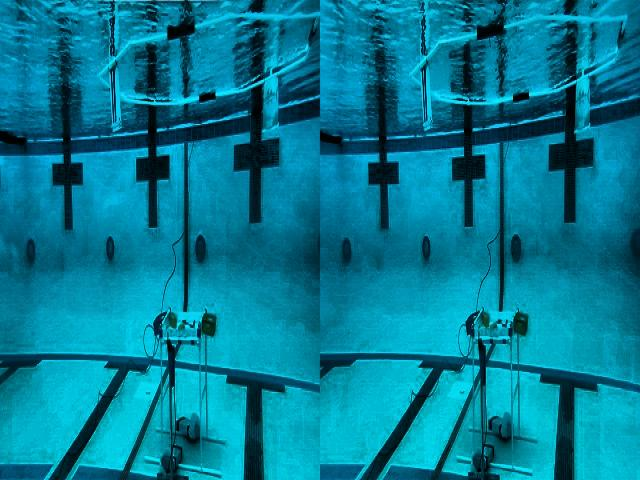octagon_table: (148, 297, 220, 480), (462, 305, 536, 480)
octagon_top: (98, 9, 322, 144), (408, 12, 629, 133)
sawfish: (262, 75, 278, 130), (574, 77, 590, 130)
